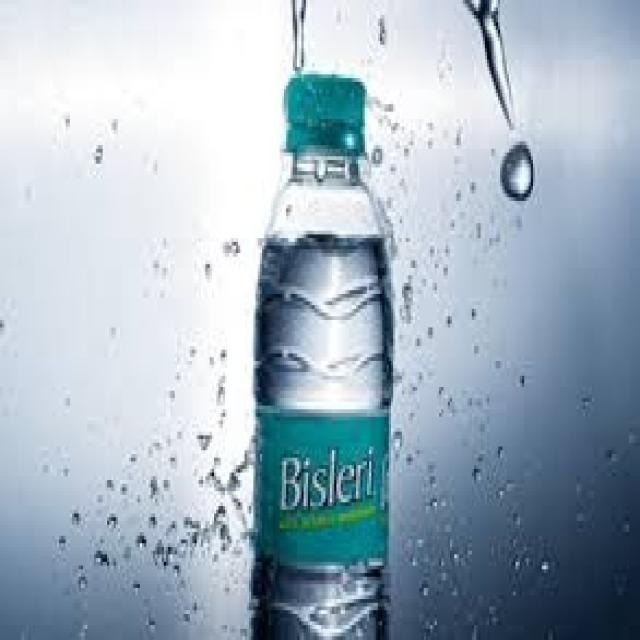bottle: (252, 60, 448, 640)
